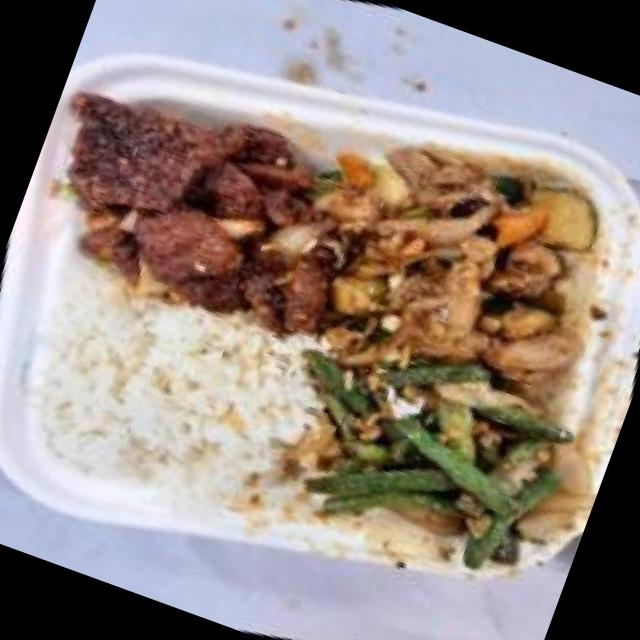Beijing Beef: (11, 38, 382, 376)
Kung Pao Chicken: (258, 78, 640, 434)
String Bean Chicken Breast: (262, 291, 621, 616)
White Steamed Rice: (0, 232, 359, 569)
